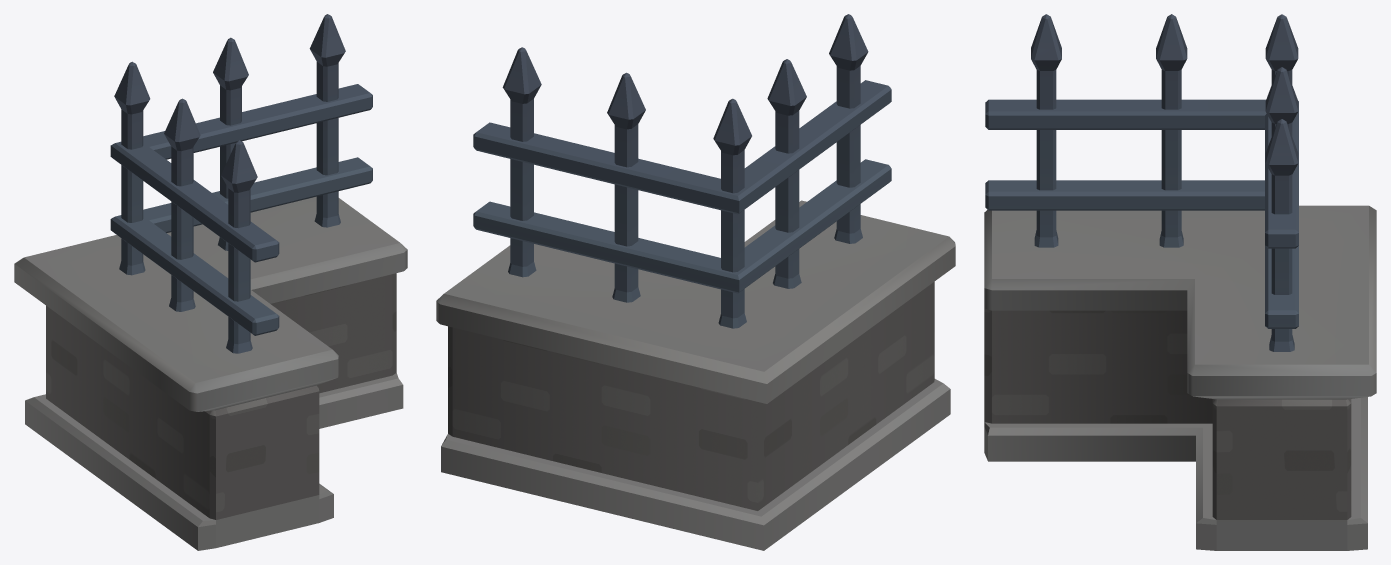
File: BrickWall_6_2.fbx
3 renders of one model, left to right at view 1: azimuth 30°, elevation 25°; view 2: azimuth 150°, elevation 25°; view 3: azimuth 270°, elevation 25°, orthographic. The views are drawn at different scales.
Parts seen in each view (by area): view 1: BrickWall_6_2; view 2: BrickWall_6_2; view 3: BrickWall_6_2.
Part boxes in pixels (x1,y1,x2,y2): BrickWall_6_2: (14,14,407,550); BrickWall_6_2: (436,14,955,550); BrickWall_6_2: (984,14,1376,550).
Bounding box in the file's own units: 1.32 × 1.52 × 1.32.
